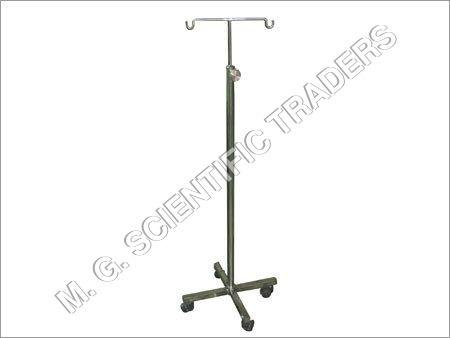Saline Stand: (179, 15, 278, 331)
